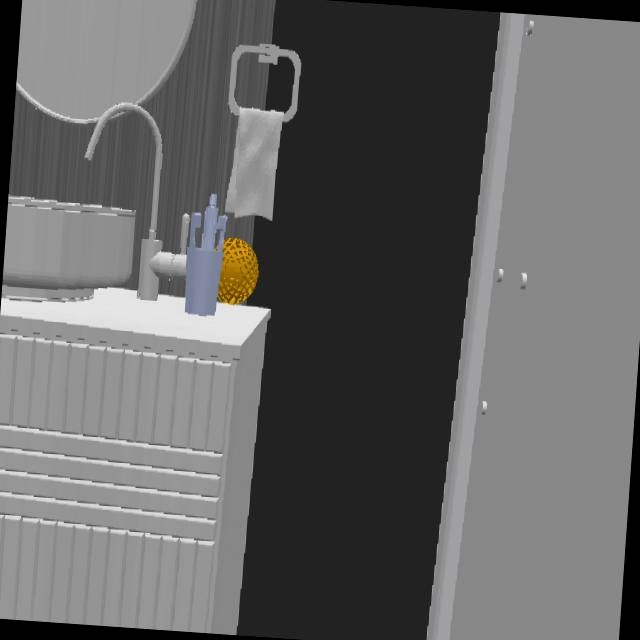cabinet: (0, 288, 269, 633)
shower: (428, 12, 640, 640)
washbasin: (85, 103, 161, 299), (2, 196, 134, 289)
